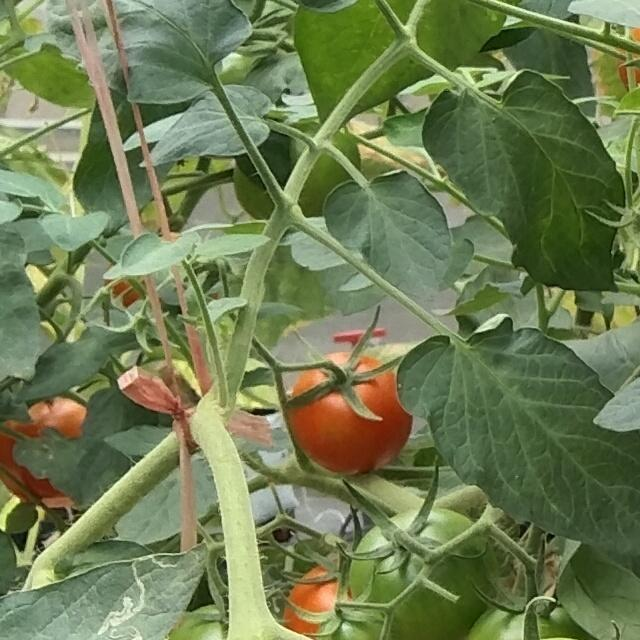Healthy: (392, 312, 640, 555), (422, 66, 623, 294), (323, 169, 454, 303), (139, 81, 271, 171), (118, 228, 198, 280)
Leaf_Miner: (0, 543, 210, 640)
